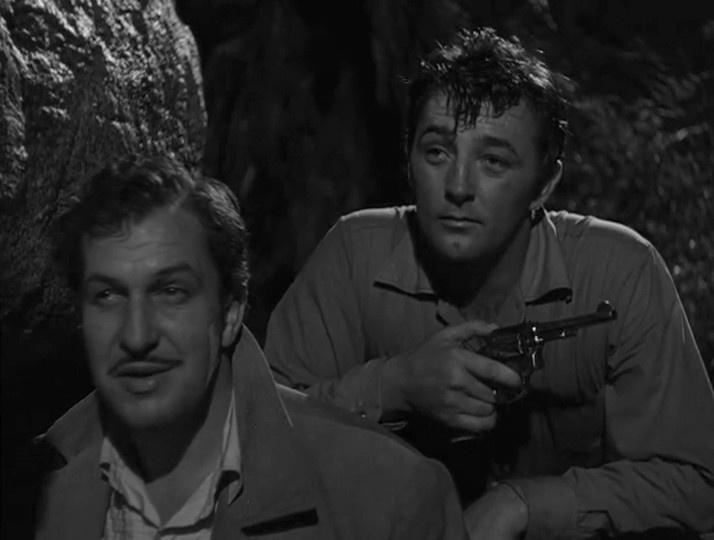gun: (429, 281, 632, 445)
